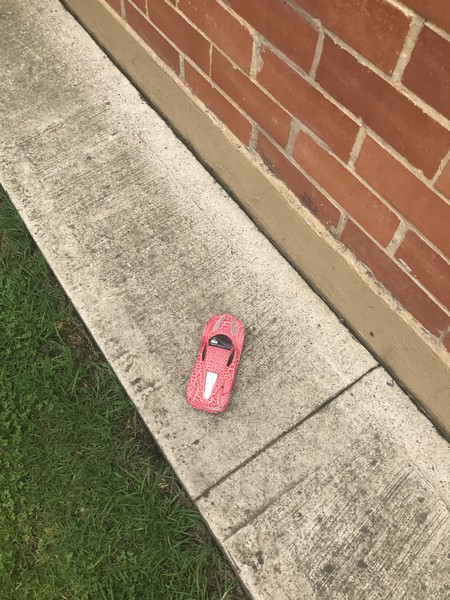RC: (184, 309, 248, 414)
